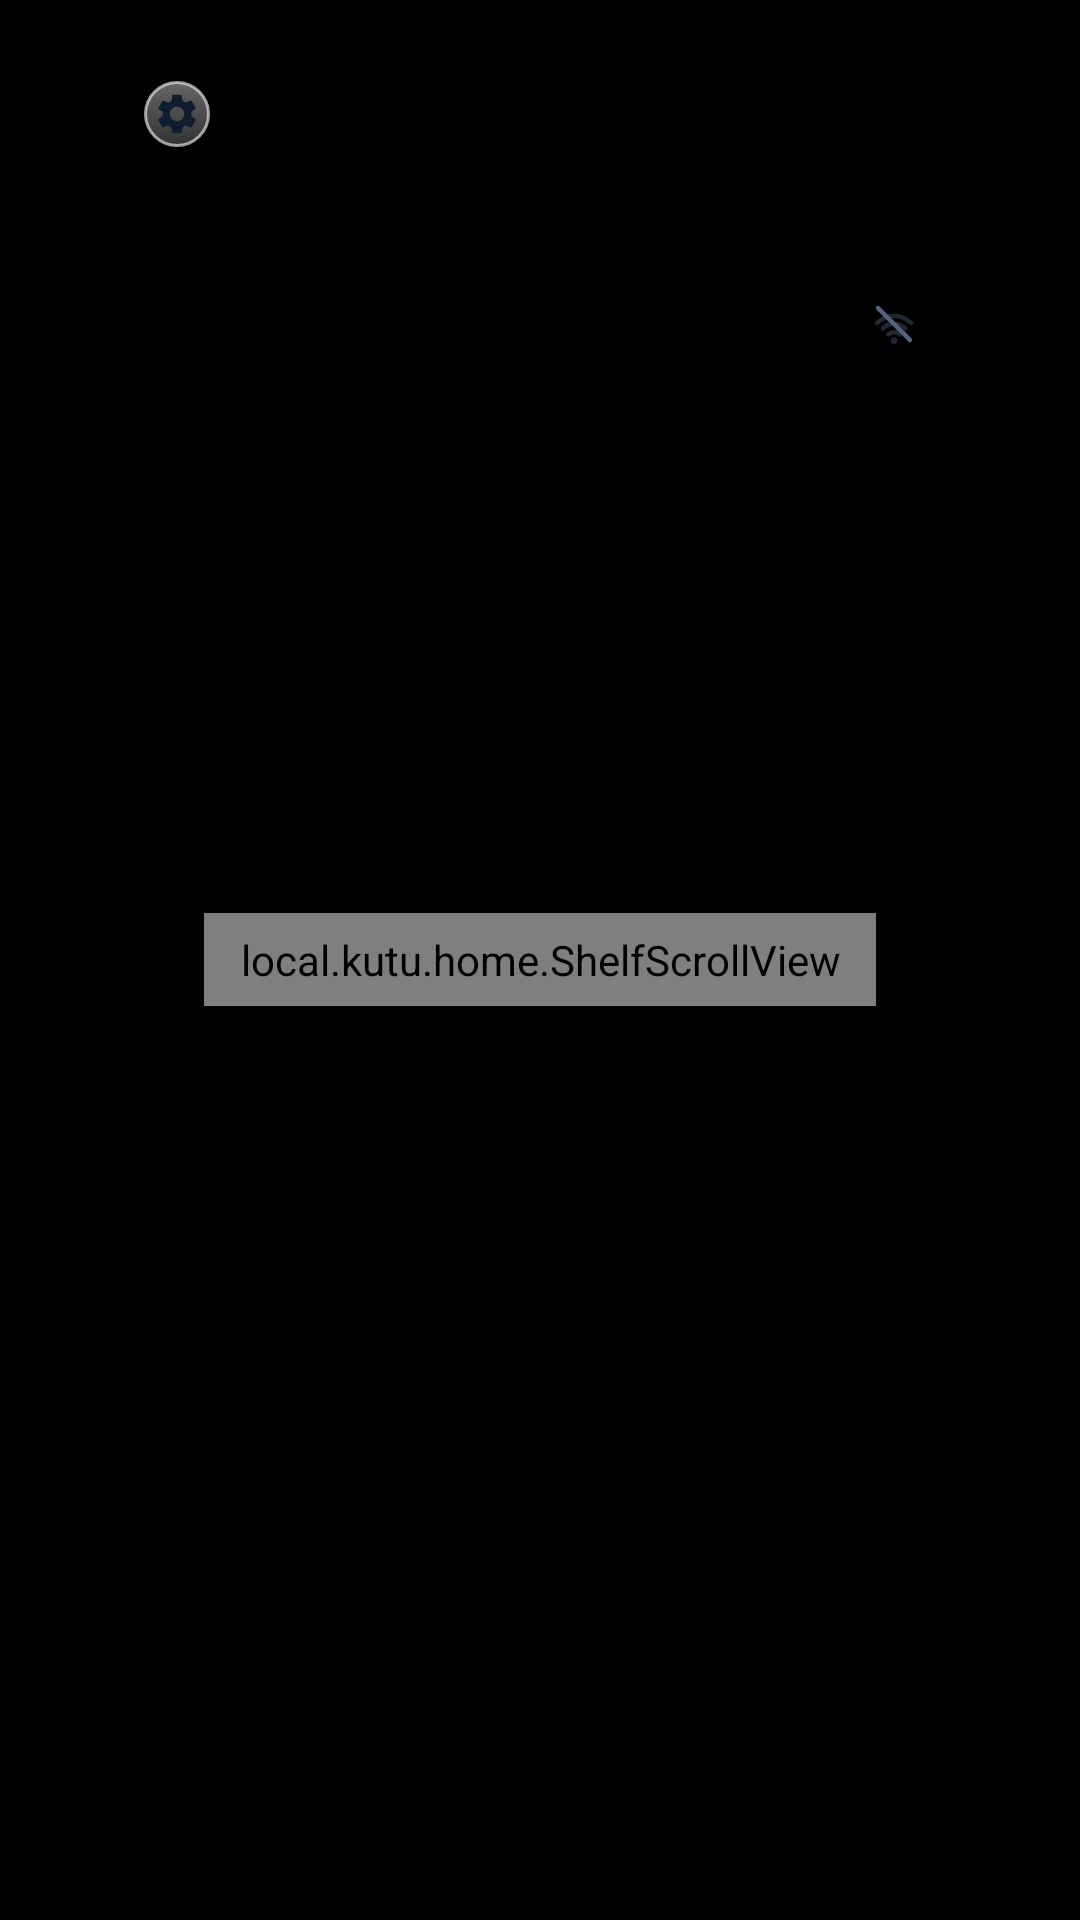

Named icons in this screenshot (1080x1920) and their bounding boxes, {"x1": x1, "y1": y1, "x2": x2, "y2": y2}:
Kutu settings: {"x1": 144, "y1": 81, "x2": 210, "y2": 147}
wifi off: {"x1": 875, "y1": 306, "x2": 913, "y2": 344}
